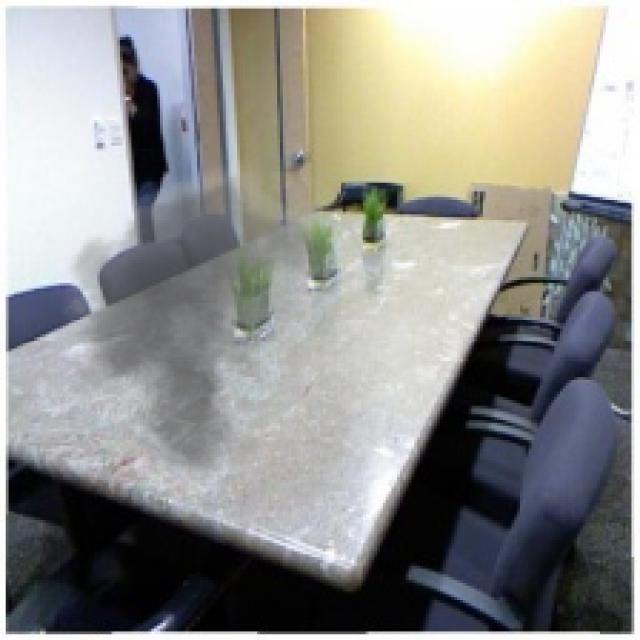Smoke: (26, 148, 397, 506)
